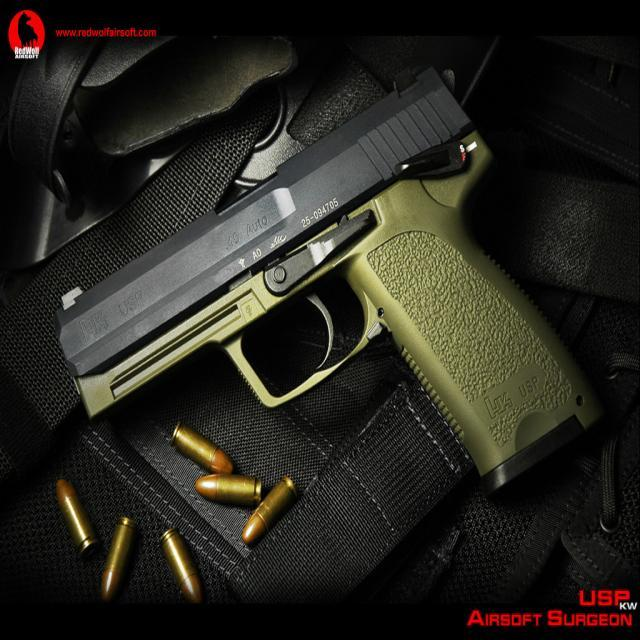Gun: (58, 69, 602, 490)
